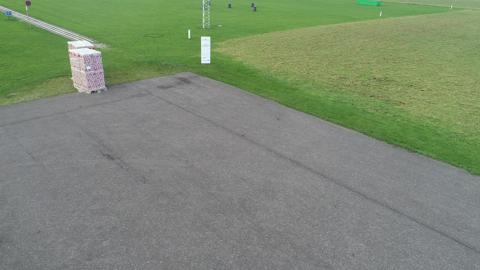RockwoolPallet: (66, 40, 95, 52)
